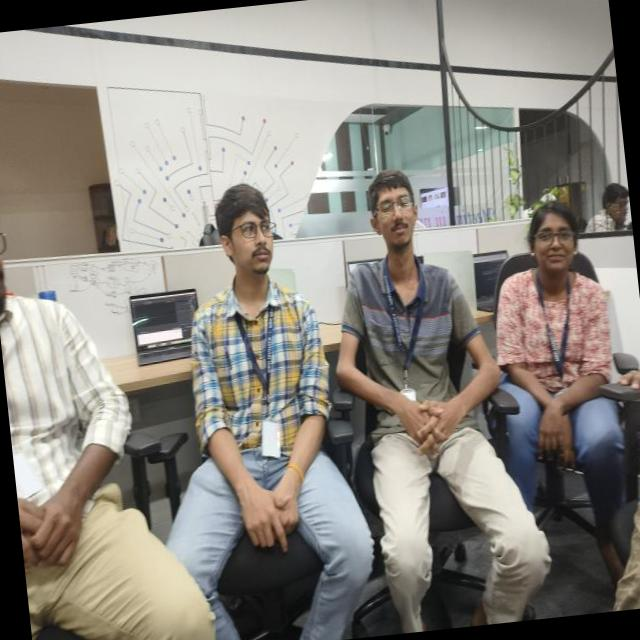id_card: (238, 293, 298, 462), (379, 261, 432, 408), (536, 274, 586, 394)
